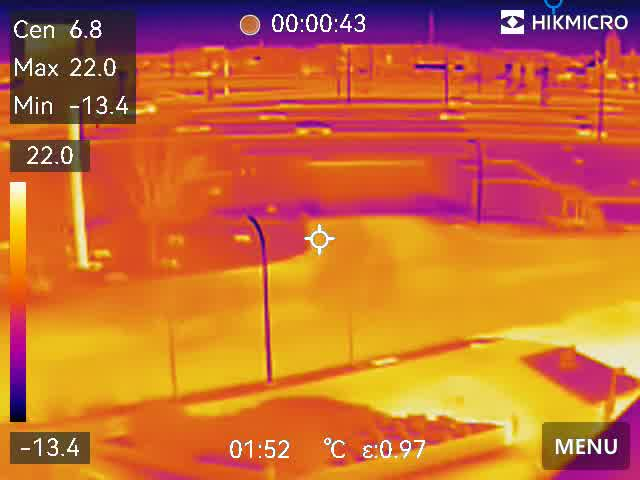vehicle: (288, 119, 335, 139), (170, 121, 216, 136), (251, 108, 291, 123), (574, 125, 607, 140), (438, 111, 475, 124), (443, 95, 472, 109)
